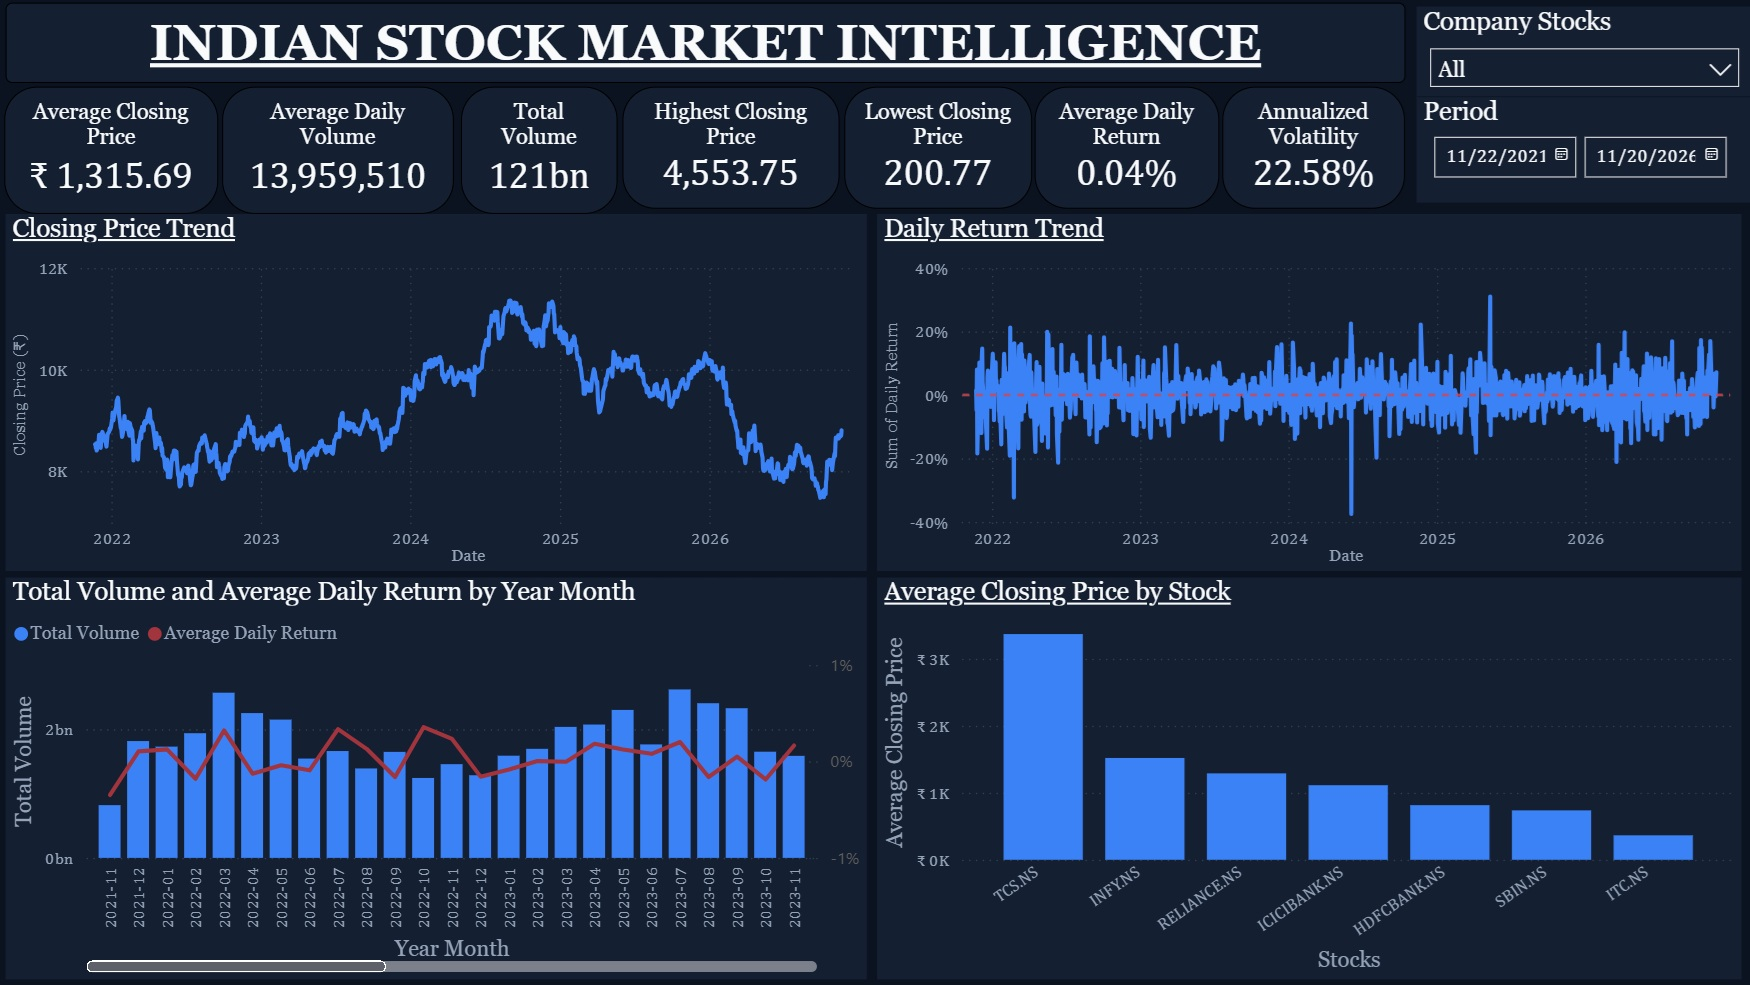

This screenshot's page, from the dashboard's own definition file:
{"tool":"powerbi","page":{"name":"Market Overview","canvas":[1280,720],"ordinal":0},"visuals":[{"type":"slicer","title":"Company Stocks","fields":{"Values":["Indian_Stock_Market_Data.Stock Symbol"]},"box":[1034.7,5.1,245.5,65.6],"z":0},{"type":"card","title":"Average Closing Price","fields":{"Values":["Table.Average Closing Price"]},"box":[3.6,63.1,156,92.9],"z":1000},{"type":"card","title":"Average Daily Volume","fields":{"Values":["Table.Average Daily Volume"]},"box":[163.2,63.1,169.1,92.9],"z":2000},{"type":"card","title":"Total Volume","fields":{"Values":["Table.Total Volume"]},"box":[337,63.1,114.3,92.9],"z":3000},{"type":"lineChart","title":"Closing Price Trend","fields":{"Category":["DateTable.Date"],"Y":["Sum(Indian_Stock_Market_Data.Close)"]},"box":[4.8,156,628.8,260.8],"z":4000},{"type":"lineClusteredColumnComboChart","fields":{"Y":["Table.Total Volume"],"Y2":["Table.Average Daily Return"],"Category":["DateTable.Year Month"]},"box":[4.8,421.6,628.8,293],"z":5000},{"type":"card","title":"Highest Closing Price","fields":{"Values":["Table.Highest Closing Price"]},"box":[454.9,63.1,158.4,89.3],"z":6000},{"type":"card","title":"Lowest Closing Price","fields":{"Values":["Table.Lowest Closing Price"]},"box":[616.9,63.1,137,89.3],"z":7000},{"type":"card","title":"Average Daily Return","fields":{"Values":["Table.Average Daily Return"]},"box":[756.2,63.1,134.6,89.3],"z":8000},{"type":"card","title":"Annualized Volatility","fields":{"Values":["Table.Annualized Volatility"]},"box":[893.2,63.1,133.4,89.3],"z":9000},{"type":"lineChart","title":"Daily Return Trend","fields":{"Y":["Sum(Indian_Stock_Market_Data.Daily Return)"],"Category":["DateTable.Date"]},"box":[640.7,156,631.2,260.8],"z":10000},{"type":"slicer","title":"Period","fields":{"Values":["DateTable.Date"]},"box":[1034.7,70.7,245.5,77.1],"z":11000},{"type":"clusteredColumnChart","title":"Average Closing Price by Stock","fields":{"Category":["Indian_Stock_Market_Data.Stock Symbol"],"Y":["Table.Average Closing Price"]},"box":[640.7,421.6,631.2,293],"z":12000},{"type":"textbox","box":[4.8,2.4,1021.8,58.4],"z":13000}]}

Visuals, with their boxes in screenshot pixels (x1, y1, x2, y2), scaled from the page's 1280x720 canvas onto the 1750x985 screenshot:
"Company Stocks" slicer: [1415, 7, 1749, 97]
"Average Closing Price" card: [5, 86, 218, 213]
"Average Daily Volume" card: [223, 86, 454, 213]
"Total Volume" card: [461, 86, 617, 213]
"Closing Price Trend" lineChart: [7, 213, 866, 570]
lineClusteredColumnComboChart - Table.Total Volume x Table.Average Daily Return: [7, 577, 866, 978]
"Highest Closing Price" card: [622, 86, 838, 208]
"Lowest Closing Price" card: [843, 86, 1031, 208]
"Average Daily Return" card: [1034, 86, 1218, 208]
"Annualized Volatility" card: [1221, 86, 1404, 208]
"Daily Return Trend" lineChart: [876, 213, 1739, 570]
"Period" slicer: [1415, 97, 1749, 202]
"Average Closing Price by Stock" clusteredColumnChart: [876, 577, 1739, 978]
textbox: [7, 3, 1404, 83]
